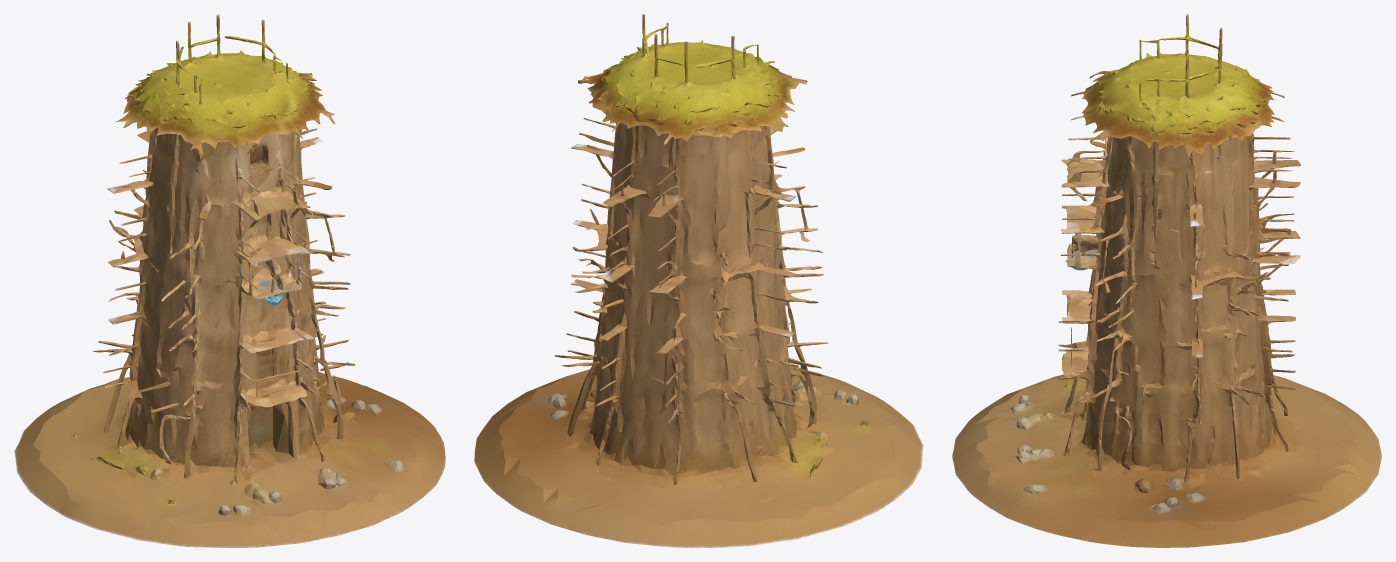
3 renders of one model, left to right at view 1: azimuth 30°, elevation 25°; view 2: azimuth 150°, elevation 25°; view 3: azimuth 270°, elevation 25°, orthographic. The views are drawn at different scales.
Visible parts, largest first — view 1: 045; view 2: 045; view 3: 045.
Boxes of the visible parts, bbox=[...] form: 045: bbox=[14, 14, 445, 547]; 045: bbox=[474, 14, 923, 547]; 045: bbox=[952, 14, 1381, 547].
Size of the model in its own units: 1.77 by 1.9 by 1.76.
Materials: 1 (1 with a texture image).
